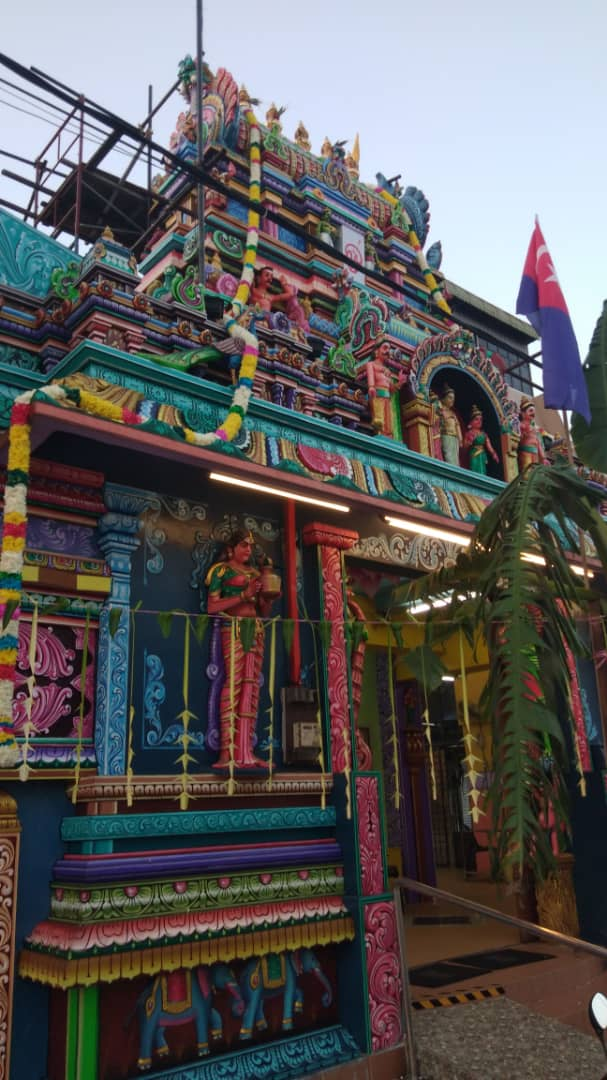Hindu Temple: (11, 92, 583, 1035)
